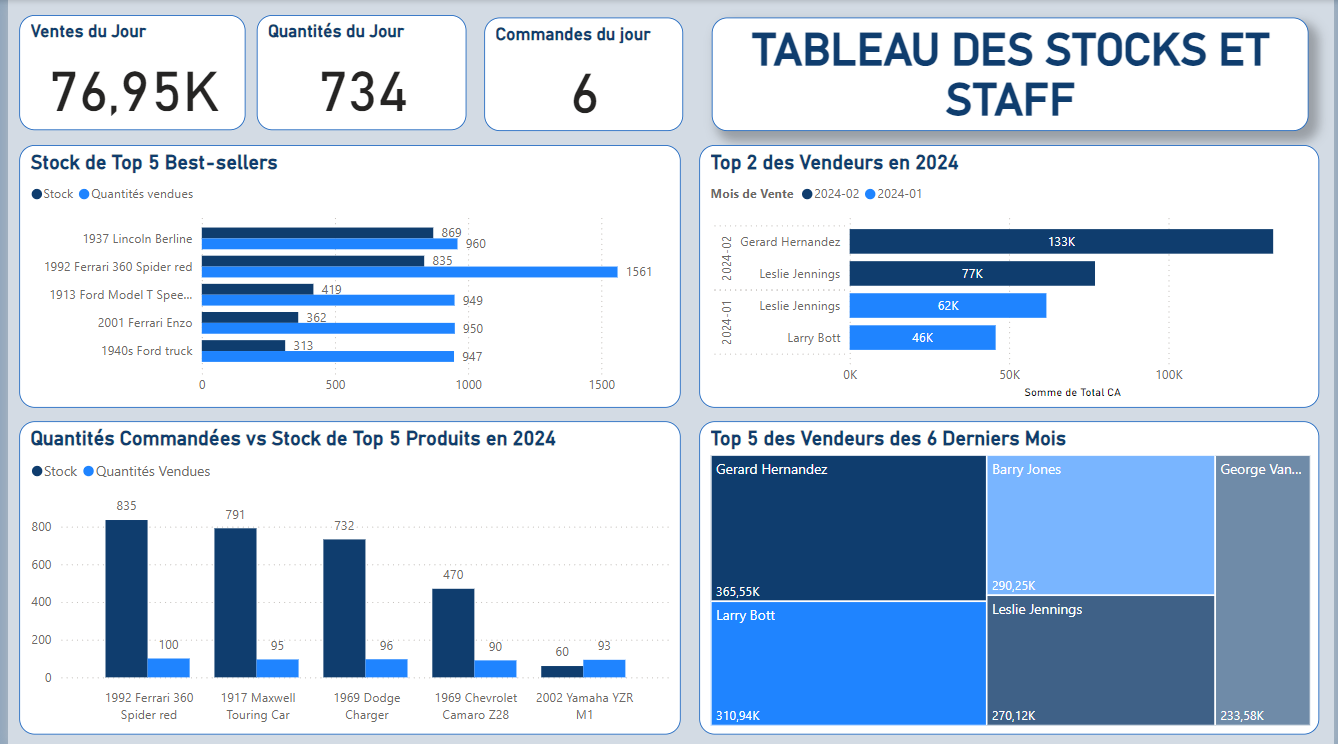

This screenshot's page, from the dashboard's own definition file:
{"tool":"powerbi","page":{"name":"Stock & HR","canvas":[1280,720],"ordinal":2},"visuals":[{"type":"clusteredBarChart","title":"Stock de Top 5 Best-sellers","fields":{"Category":["Query1.productName"],"Y":["Query1.quantityInStock","Query1.SUM(quantityOrdered)"]},"box":[10.7,456.2,640,250],"z":0},{"type":"card","title":"Ventes du Jour","fields":{"Values":["KPI du mois et jour.totalSale"]},"box":[10.7,14.6,201.3,111.9],"z":1000},{"type":"card","title":"Quantités du Jour","fields":{"Values":["KPI du mois et jour.totalQuantity"]},"box":[228.6,14.6,203.3,111.9],"z":2000},{"type":"card","title":"Commandes du jour","fields":{"Values":["KPI du mois et jour.orderNumber"]},"box":[459.1,16.5,191.6,109.9],"z":3000},{"type":"textbox","title":"TABLEAU DES STOCK ET STAFF","box":[678.9,16.5,575.8,109.9],"z":4000},{"type":"clusteredColumnChart","title":"Quantités commandées vs Stock de top 5 Produits en 2024","fields":{"Category":["Top 5 vendu 2024.productName"],"Y":["Top 5 vendu 2024.SUM(quantityOrdered)","Top 5 vendu 2024.quantityInStock"]},"box":[10.7,140.1,641.9,307.4],"z":5000},{"type":"barChart","title":"TOP 2 Vendeurs en 2024","fields":{"Category":["Query1.Sale_Date","Query1.Full_Name"],"Y":["Query1.Total_CA"]},"box":[667.2,140.1,599.1,250],"z":7000},{"type":"treemap","title":"TOP 5 Vendeurs des 6 derniers mois","fields":{"Group":["New requete HR.Full_Name"],"Values":["New requete HR.Total_CA"]},"box":[667.2,400.7,599.1,305.4],"z":8000}]}

Visuals, with their boxes in screenshot pixels (x1, y1, x2, y2), scaled from the page's 1280x720 canvas onto the 1338x744 screenshot:
"Stock de Top 5 Best-sellers" clusteredBarChart: box(11, 471, 680, 730)
"Ventes du Jour" card: box(11, 15, 222, 131)
"Quantités du Jour" card: box(239, 15, 451, 131)
"Commandes du jour" card: box(480, 17, 680, 131)
"TABLEAU DES STOCK ET STAFF" textbox: box(710, 17, 1312, 131)
"Quantités commandées vs Stock de top 5 Produits en 2024" clusteredColumnChart: box(11, 145, 682, 462)
"TOP 2 Vendeurs en 2024" barChart: box(697, 145, 1324, 403)
"TOP 5 Vendeurs des 6 derniers mois" treemap: box(697, 414, 1324, 730)
